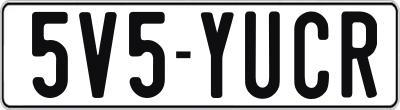5: (31, 9, 72, 99), (127, 9, 168, 98)
C: (292, 11, 328, 102)
R: (341, 9, 376, 100)
U: (244, 8, 284, 100)
V: (78, 11, 122, 98)
Y: (198, 12, 232, 99)
